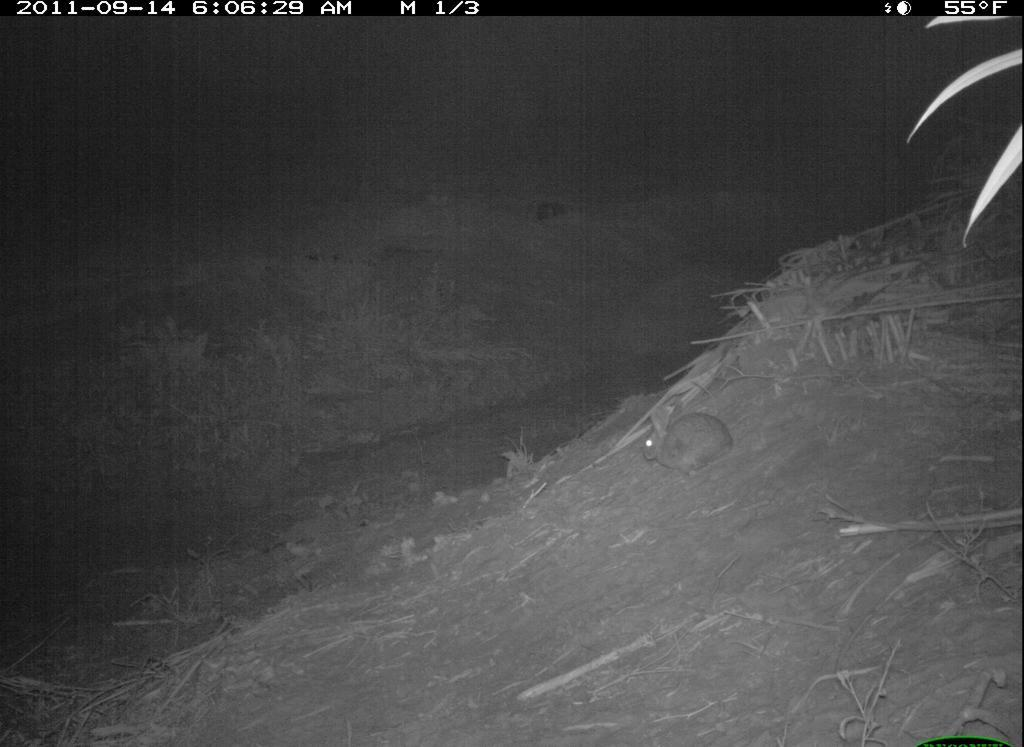rabbit: (630, 387, 754, 487)
